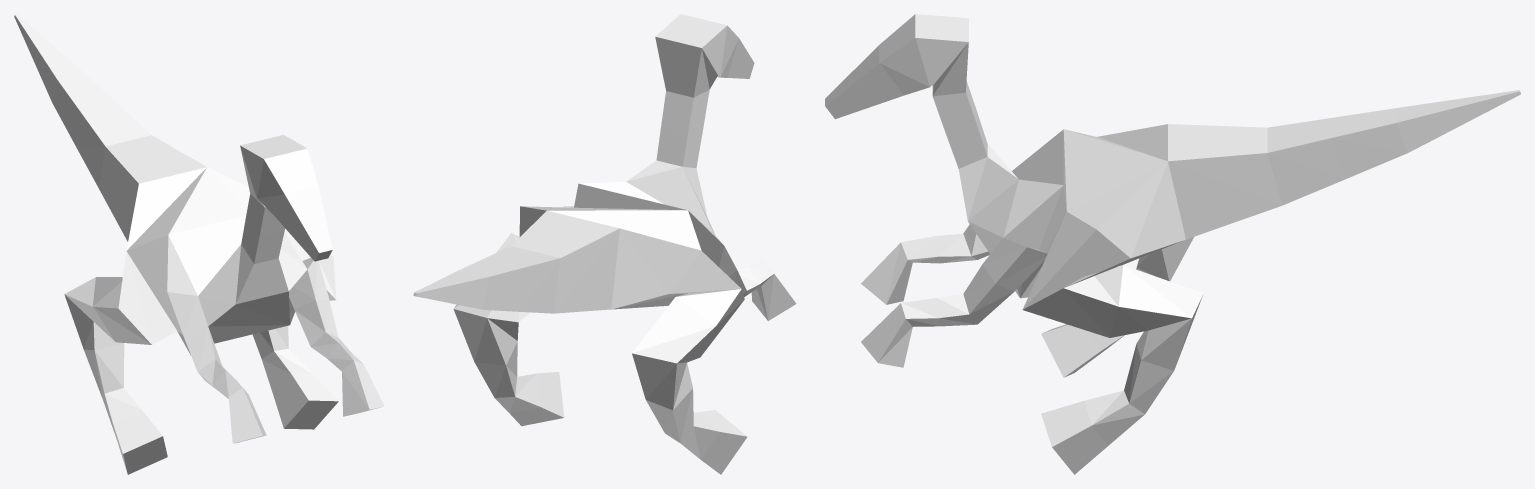
Rendered from dino1fbx.fbx.
3 renders of one model, left to right at view 1: azimuth 30°, elevation 25°; view 2: azimuth 150°, elevation 25°; view 3: azimuth 270°, elevation 25°, orthographic. The views are drawn at different scales.
Parts seen in each view (by area): view 1: unamed; view 2: unamed; view 3: unamed.
Part boxes in pixels (x1,y1,x2,y2): unamed: (14,14,384,474); unamed: (413,14,796,474); unamed: (825,14,1520,474).
Bounding box in the file's own units: 0.4984 × 0.772 × 1.23.
Materials: 1 (1 with a texture image).
